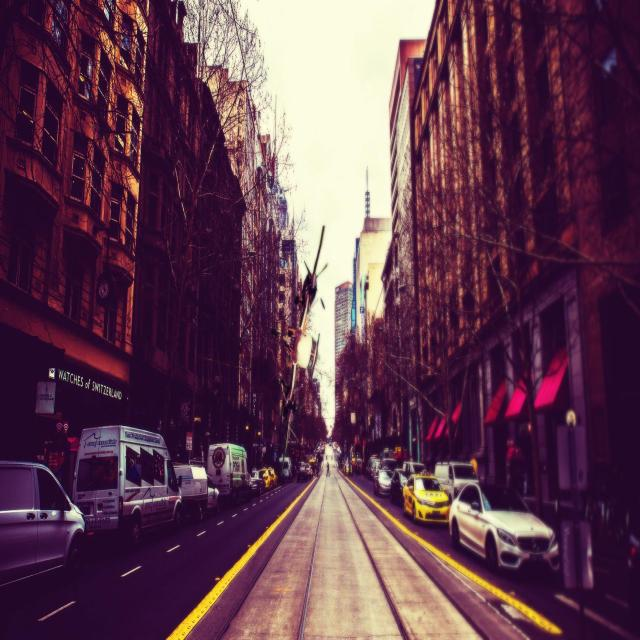airplane: (280, 226, 326, 473)
